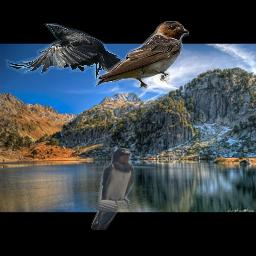Crow: (5, 23, 123, 80)
Swallow: (93, 20, 189, 90), (91, 148, 134, 230)
